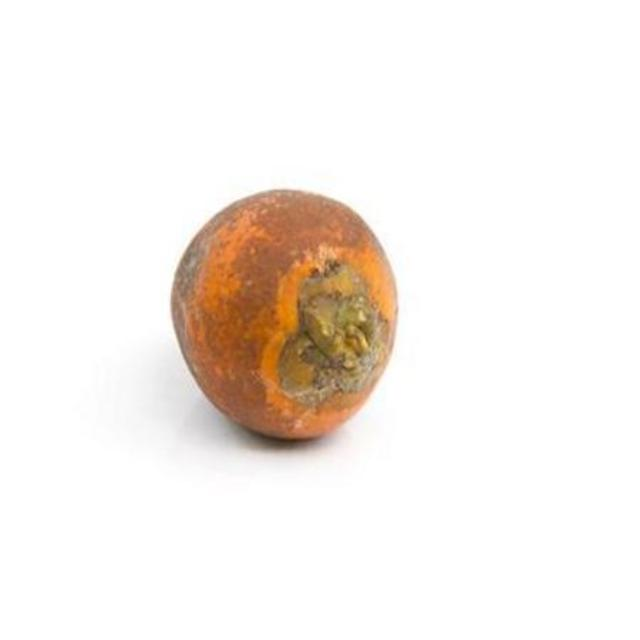good: (169, 189, 400, 443)
